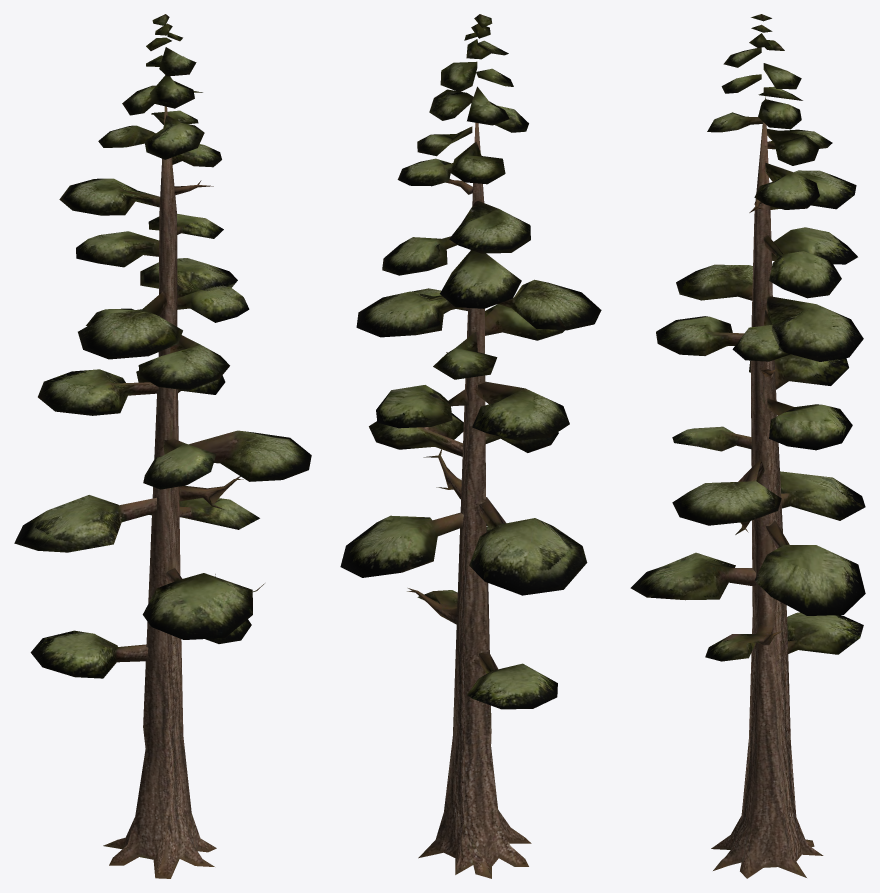
File: spruce-tripo-03.glb
3 renders of one model, left to right at view 1: azimuth 30°, elevation 25°; view 2: azimuth 150°, elevation 25°; view 3: azimuth 270°, elevation 25°, orthographic.
Visible parts, largest first — view 1: tripo_node_221f3c20-829d-4e46-ac42-ed3849341279; view 2: tripo_node_221f3c20-829d-4e46-ac42-ed3849341279; view 3: tripo_node_221f3c20-829d-4e46-ac42-ed3849341279.
Boxes of the visible parts, <box> form: tripo_node_221f3c20-829d-4e46-ac42-ed3849341279: <box>14,14,311,878</box>; tripo_node_221f3c20-829d-4e46-ac42-ed3849341279: <box>340,14,601,878</box>; tripo_node_221f3c20-829d-4e46-ac42-ed3849341279: <box>630,14,865,878</box>.
Bounding box in the file's own units: 0.2949 × 0.998 × 0.252.
1 material, 1 textured.
